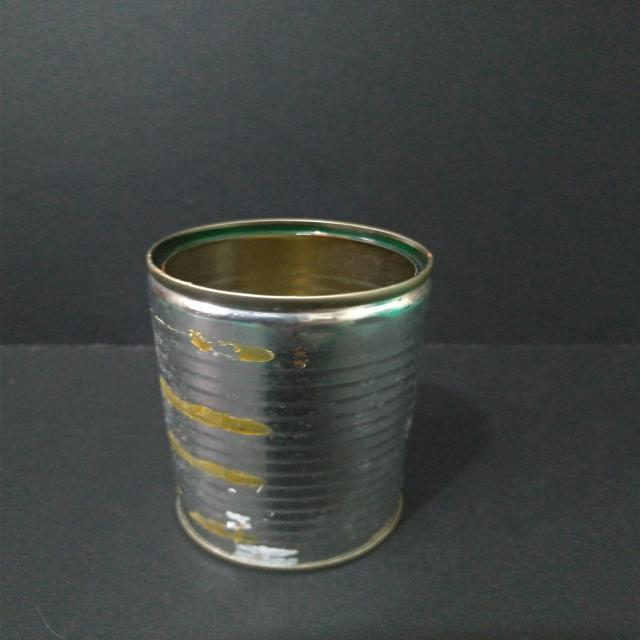metal-can: (142, 215, 442, 572)
